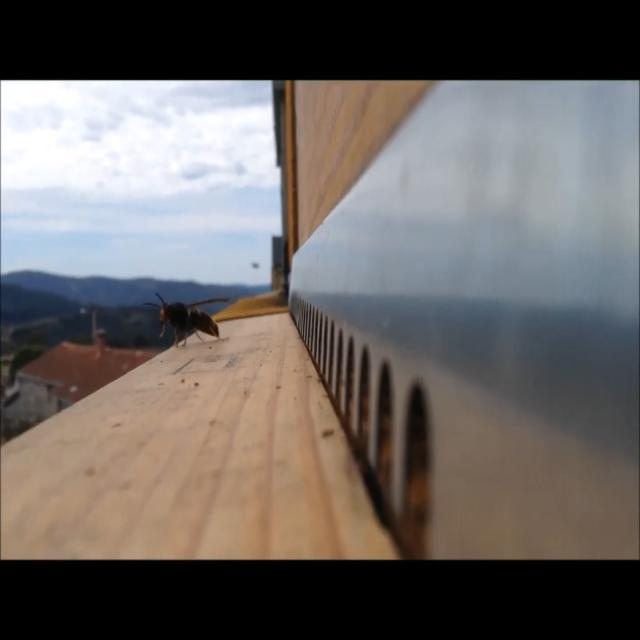Hornets: (144, 290, 233, 350)
